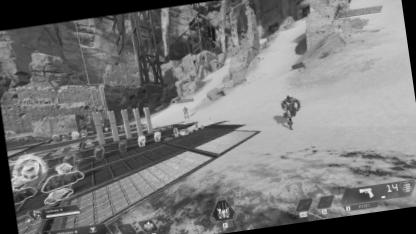Target: (280, 92, 300, 130), (180, 103, 190, 119)
